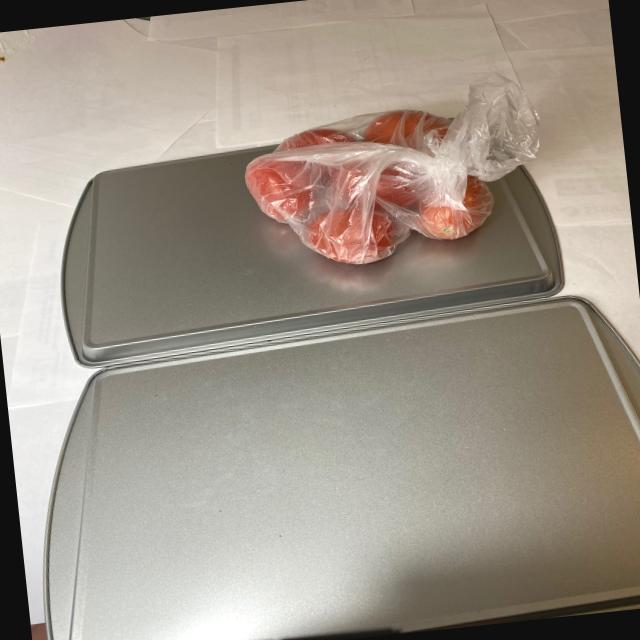tomato: (233, 103, 504, 282)
